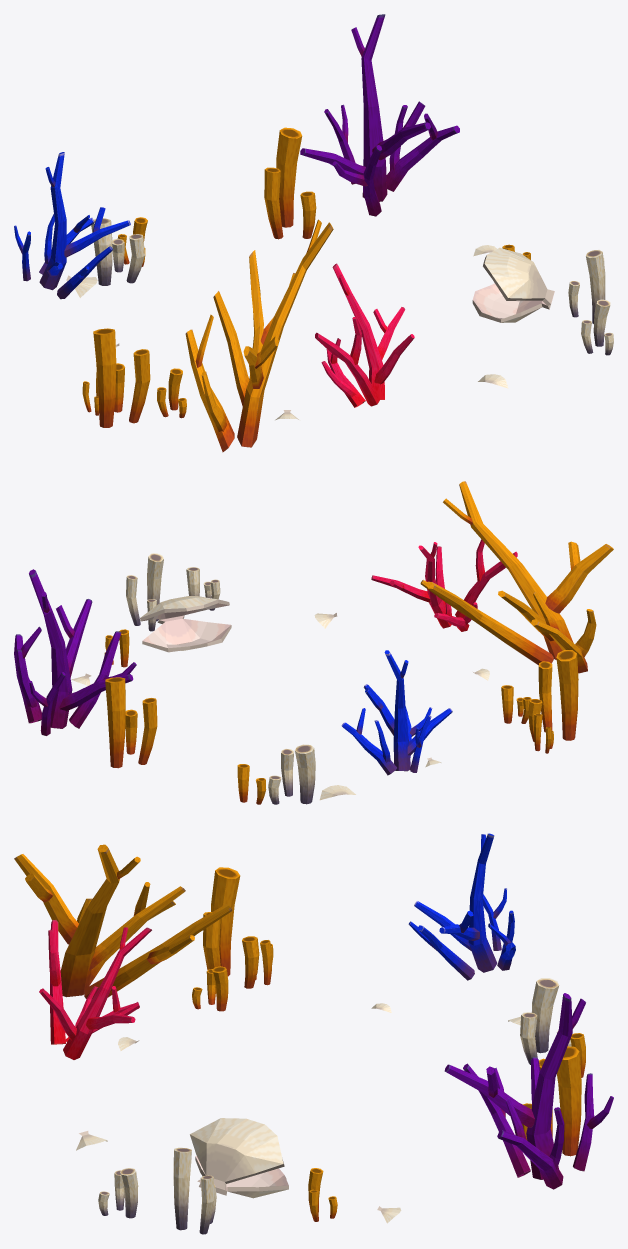
File: TheDeepSea_Decoration.fbx
3 views of the same model, one above another, from view 1: azimuth 30°, elevation 25°; view 2: azimuth 150°, elevation 25°; view 3: azimuth 270°, elevation 25° (orthographic). The views are drawn at different scales.
Parts seen in each view (by area): view 1: TheDeepSea_Decoration; view 2: TheDeepSea_Decoration; view 3: TheDeepSea_Decoration.
Boxes of the visible parts, left/top/right/bottom form: TheDeepSea_Decoration: left=14, top=14, right=613, bottom=452; TheDeepSea_Decoration: left=14, top=481, right=613, bottom=804; TheDeepSea_Decoration: left=14, top=833, right=613, bottom=1234.
Bounding box in the file's own units: 1088 × 421 × 1024.
